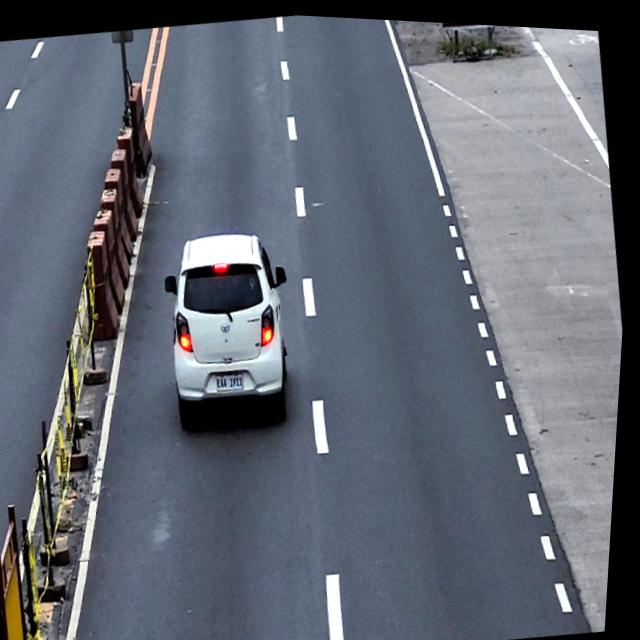Car: (155, 220, 311, 427)
License-Plate: (217, 366, 250, 391)
